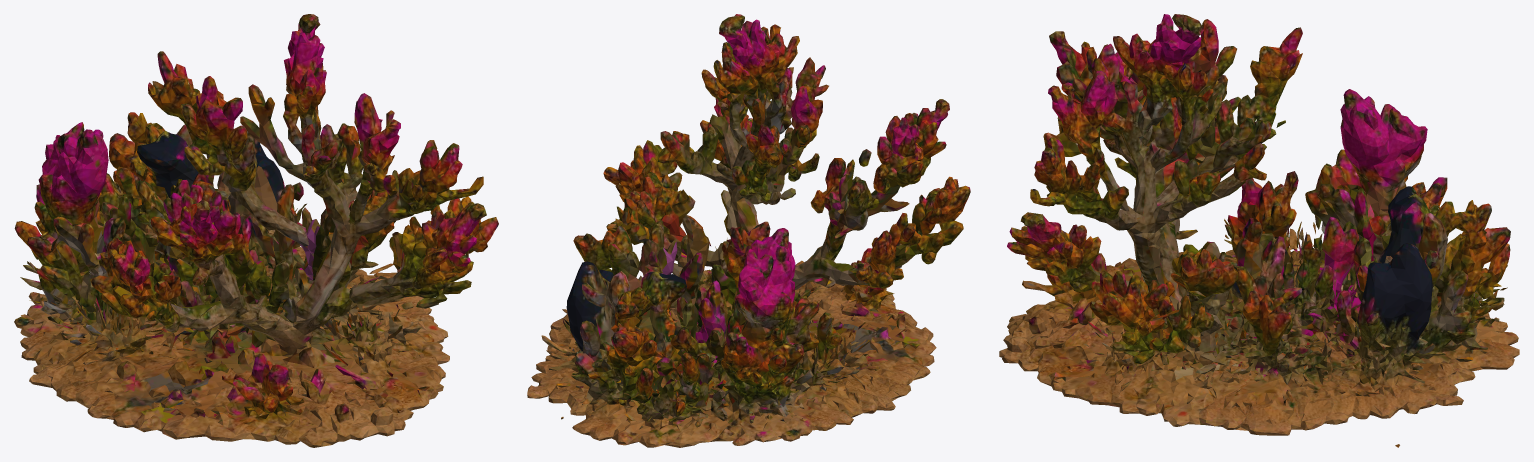
The model's file is desert-cactus-bush-6.glb.
The picture shows the model from 3 angles, left to right: view 1: azimuth 30°, elevation 25°; view 2: azimuth 150°, elevation 25°; view 3: azimuth 270°, elevation 25°; orthographic projection. The views are drawn at different scales.
Parts seen in each view (by area): view 1: textured_mesh.obj; view 2: textured_mesh.obj; view 3: textured_mesh.obj.
Boxes of the visible parts, <box> form: textured_mesh.obj: <box>14,14,498,447</box>; textured_mesh.obj: <box>527,14,970,447</box>; textured_mesh.obj: <box>999,14,1519,447</box>.
Bounding box in the file's own units: 1.68 × 1.64 × 1.98.
Materials: 1 (1 with a texture image).
